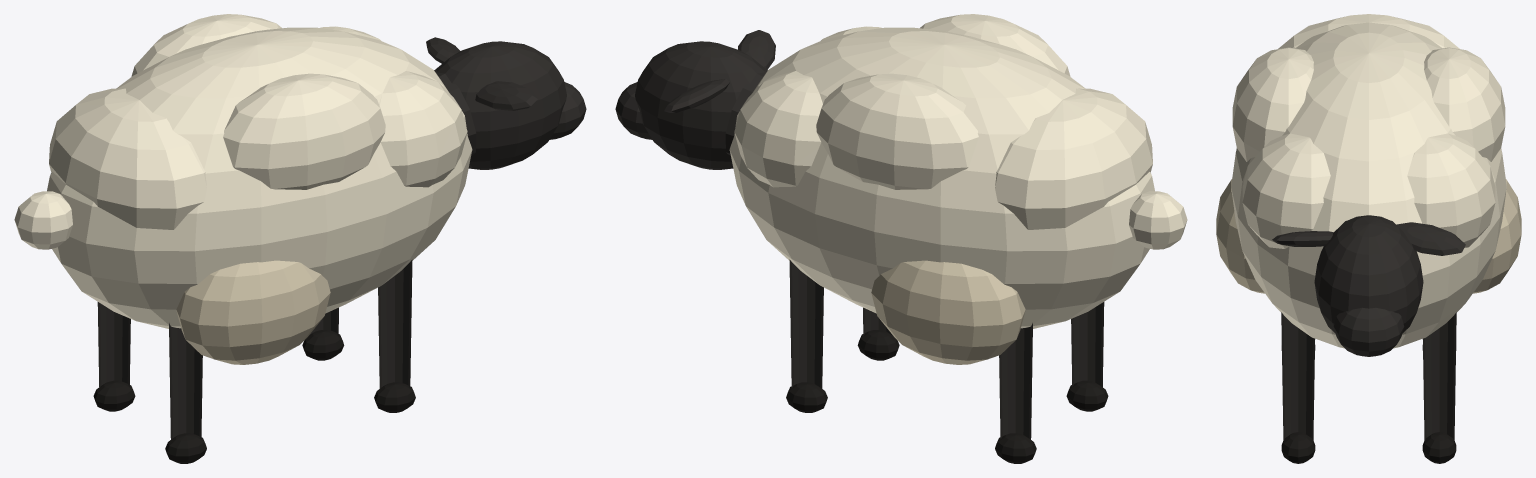
Rendered from smooth_sheep.obj.
3 renders of one model, left to right at view 1: azimuth 30°, elevation 25°; view 2: azimuth 150°, elevation 25°; view 3: azimuth 270°, elevation 25°, orthographic.
Visible parts, largest first — view 1: rounded_wool_body, wool_puff_1, wool_puff_2, wool_puff_6, head, wool_puff_4, sheep_leg_4, sheep_leg_2, wool_puff_3, wool_tail, sheep_leg_1, left_ear (+6 smaller); view 2: rounded_wool_body, wool_puff_1, wool_puff_3, wool_puff_7, head, wool_puff_5, sheep_leg_3, sheep_leg_1, wool_puff_2, wool_tail, sheep_leg_2, right_ear (+7 smaller); view 3: rounded_wool_body, head, wool_puff_4, wool_puff_5, wool_puff_2, wool_puff_3, sheep_leg_3, sheep_leg_4, muzzle, wool_puff_6, wool_puff_7, wool_puff_1 (+4 smaller).
Boxes of the visible parts, x1,y1,x2,y2 form: rounded_wool_body: (47, 27, 472, 328); wool_puff_1: (49, 88, 206, 229); wool_puff_2: (223, 73, 385, 189); wool_puff_6: (176, 260, 330, 364); head: (435, 41, 566, 169); wool_puff_4: (379, 71, 467, 187); sheep_leg_4: (378, 259, 412, 388); sheep_leg_2: (169, 323, 202, 439); wool_puff_3: (131, 14, 281, 76); wool_tail: (14, 191, 72, 249); sheep_leg_1: (97, 302, 130, 386); left_ear: (475, 81, 537, 110); rounded_wool_body: (729, 27, 1154, 328); wool_puff_1: (995, 88, 1152, 229); wool_puff_3: (816, 73, 978, 189); wool_puff_7: (871, 260, 1025, 364); head: (635, 41, 766, 169); wool_puff_5: (734, 71, 822, 187); sheep_leg_3: (789, 259, 823, 388); sheep_leg_1: (999, 323, 1032, 439); wool_puff_2: (920, 14, 1070, 76); wool_tail: (1129, 191, 1187, 249); sheep_leg_2: (1071, 302, 1104, 387); right_ear: (664, 79, 729, 112); rounded_wool_body: (1231, 22, 1506, 348); head: (1314, 215, 1423, 333); wool_puff_4: (1242, 133, 1330, 248); wool_puff_5: (1407, 133, 1495, 247); wool_puff_2: (1232, 47, 1313, 161); wool_puff_3: (1424, 47, 1505, 161); sheep_leg_3: (1422, 312, 1456, 442); sheep_leg_4: (1281, 312, 1315, 442); muzzle: (1333, 307, 1404, 356); wool_puff_6: (1216, 179, 1264, 293); wool_puff_7: (1473, 179, 1521, 293); wool_puff_1: (1278, 14, 1459, 48).
Size of the model in its own units: 2 by 1.24 by 0.952.
